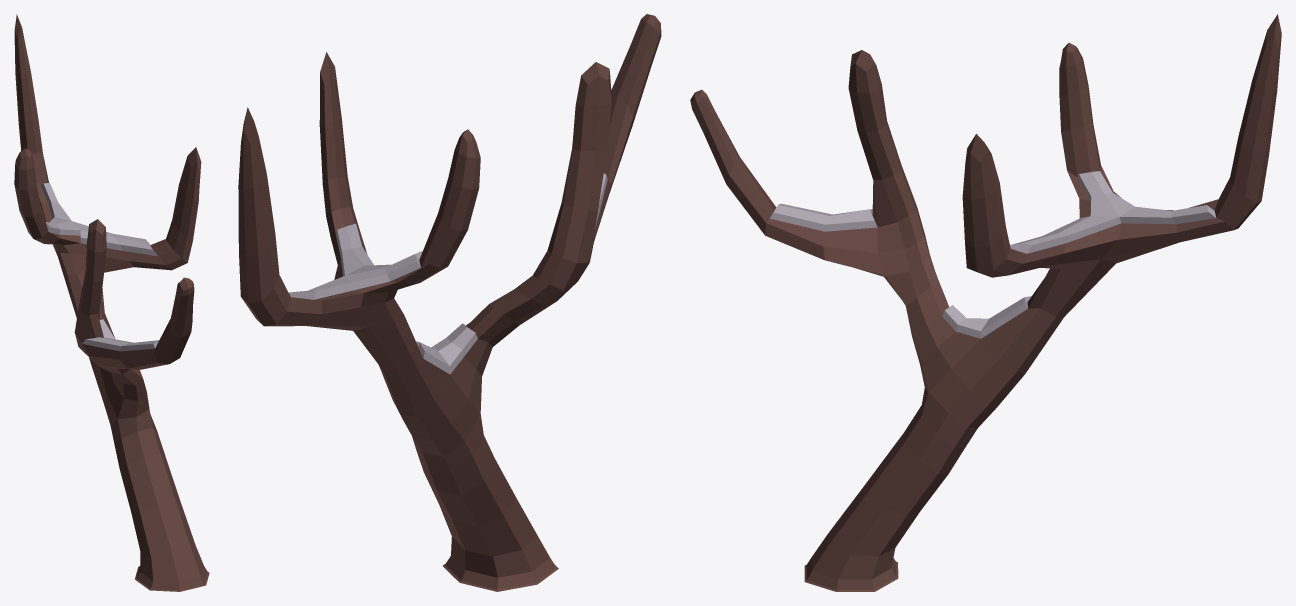
Rendered from willow_dead_snow4.glb.
3 views of the same model, side by side, from view 1: azimuth 30°, elevation 25°; view 2: azimuth 150°, elevation 25°; view 3: azimuth 270°, elevation 25° (orthographic). The views are drawn at different scales.
Visible parts, largest first — view 1: Willow_Dead_Snow_4; view 2: Willow_Dead_Snow_4; view 3: Willow_Dead_Snow_4.
Part boxes in pixels (left/top/right/bottom): Willow_Dead_Snow_4: left=14, top=14, right=209, bottom=591; Willow_Dead_Snow_4: left=238, top=14, right=661, bottom=591; Willow_Dead_Snow_4: left=690, top=14, right=1281, bottom=591.
Bounding box in the file's own units: 1.01 × 2.72 × 2.59.
